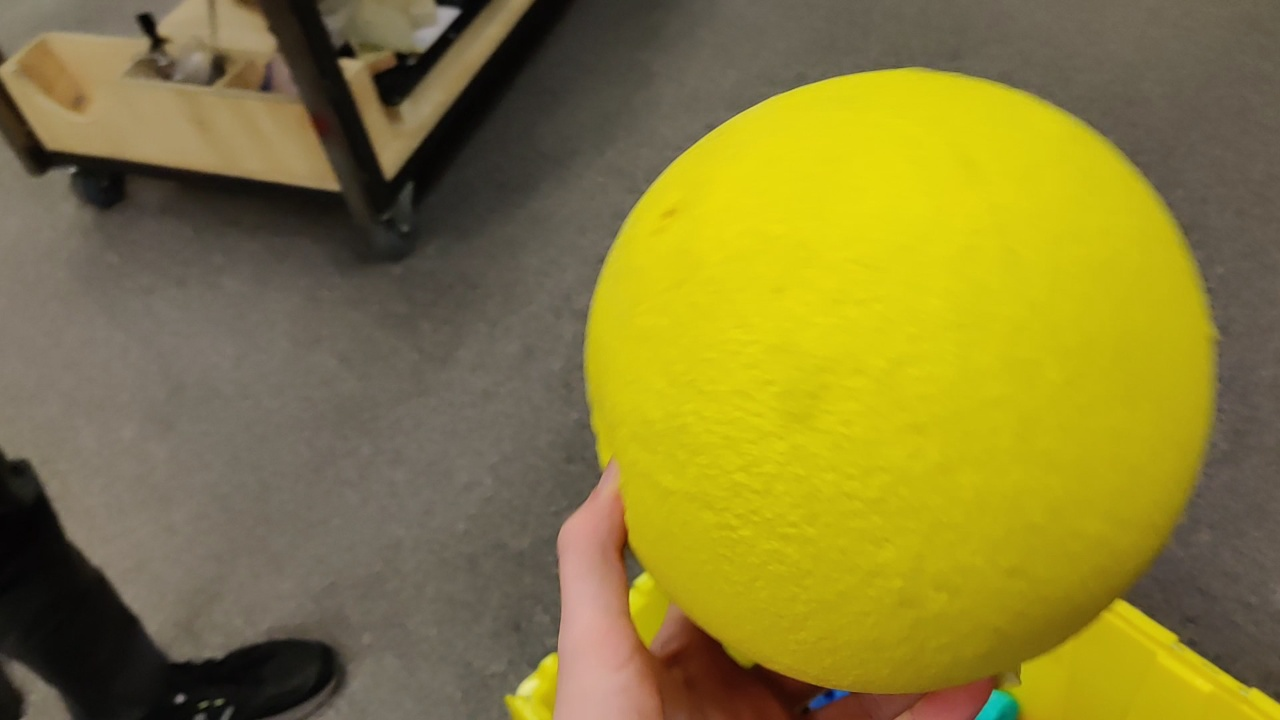Ball: (583, 68, 1227, 693)
